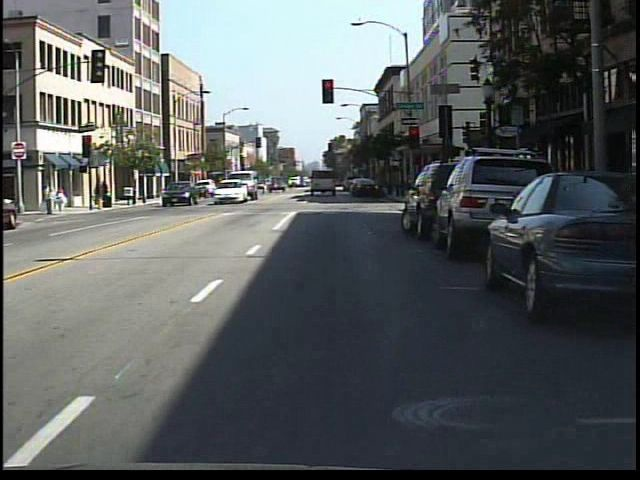person: (42, 181, 57, 219), (53, 184, 69, 217)
